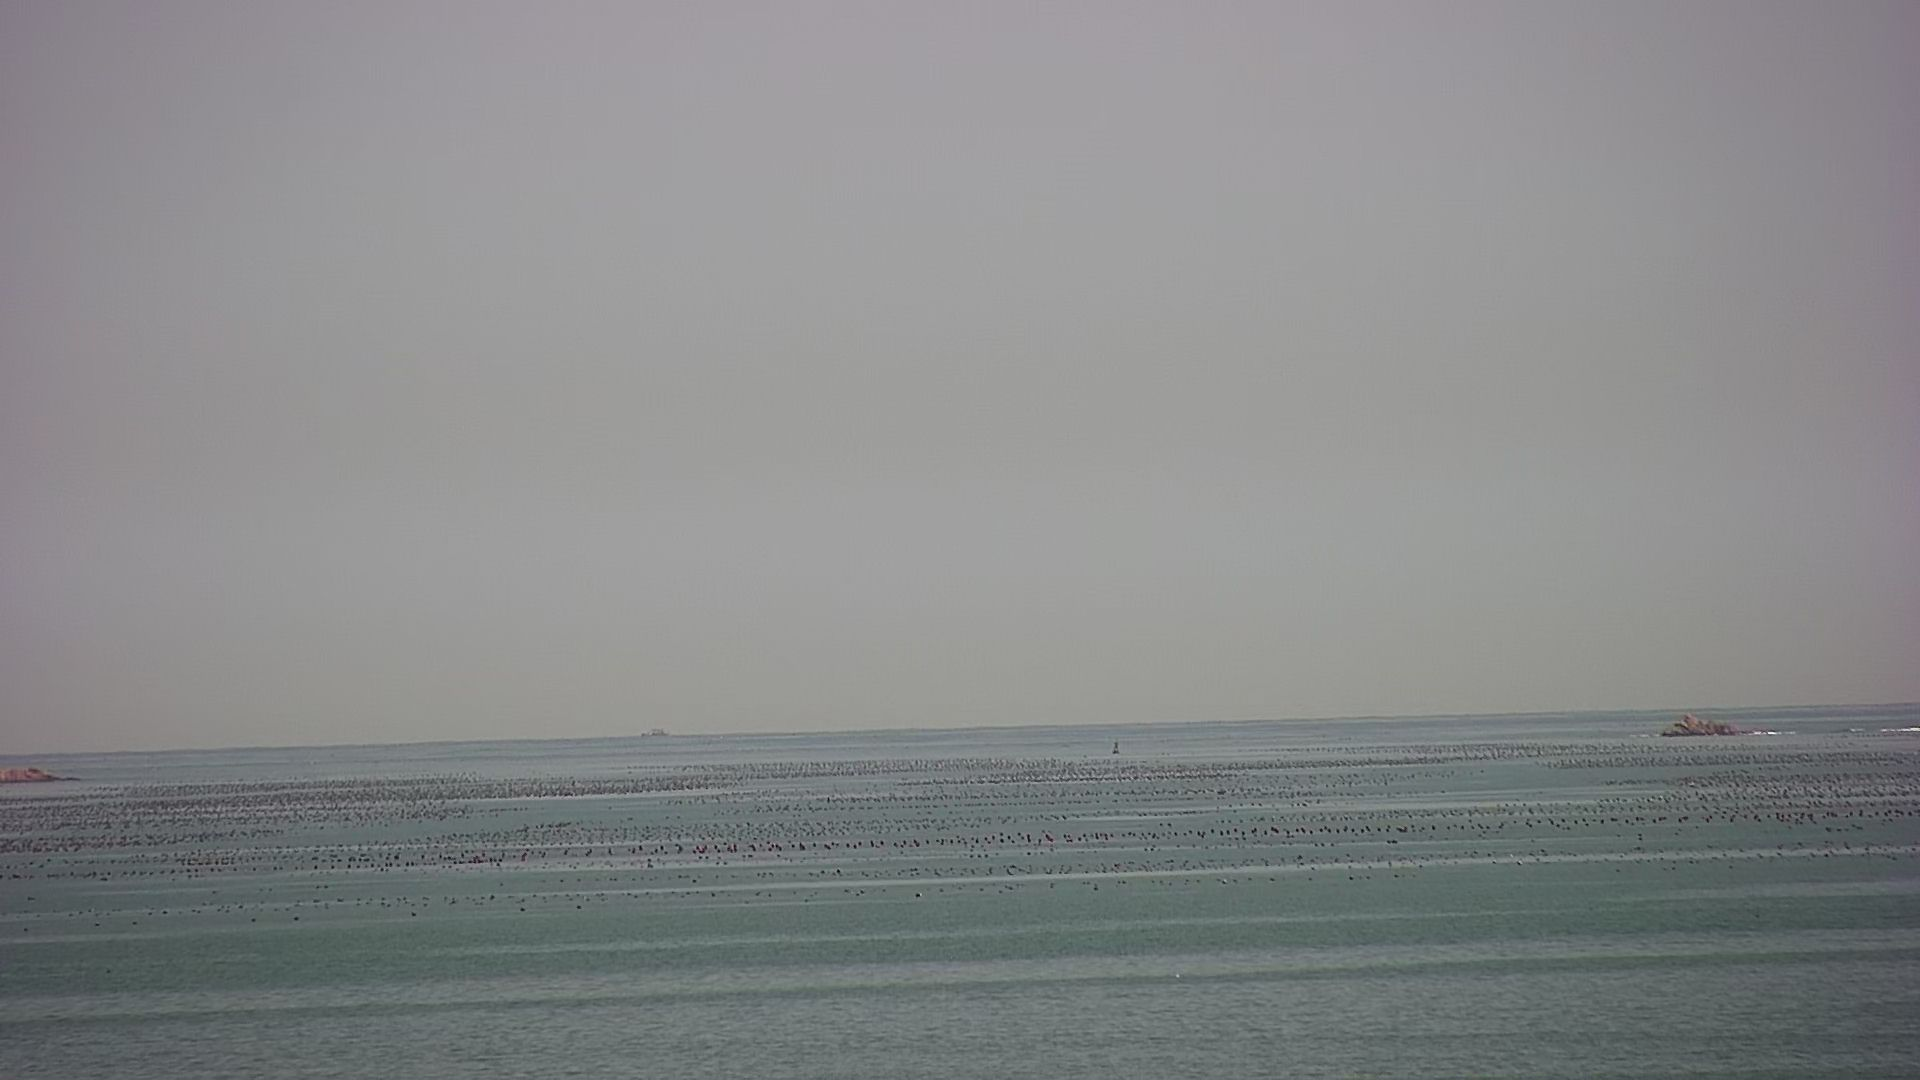rock: (1659, 709, 1758, 742), (1, 758, 80, 796)
